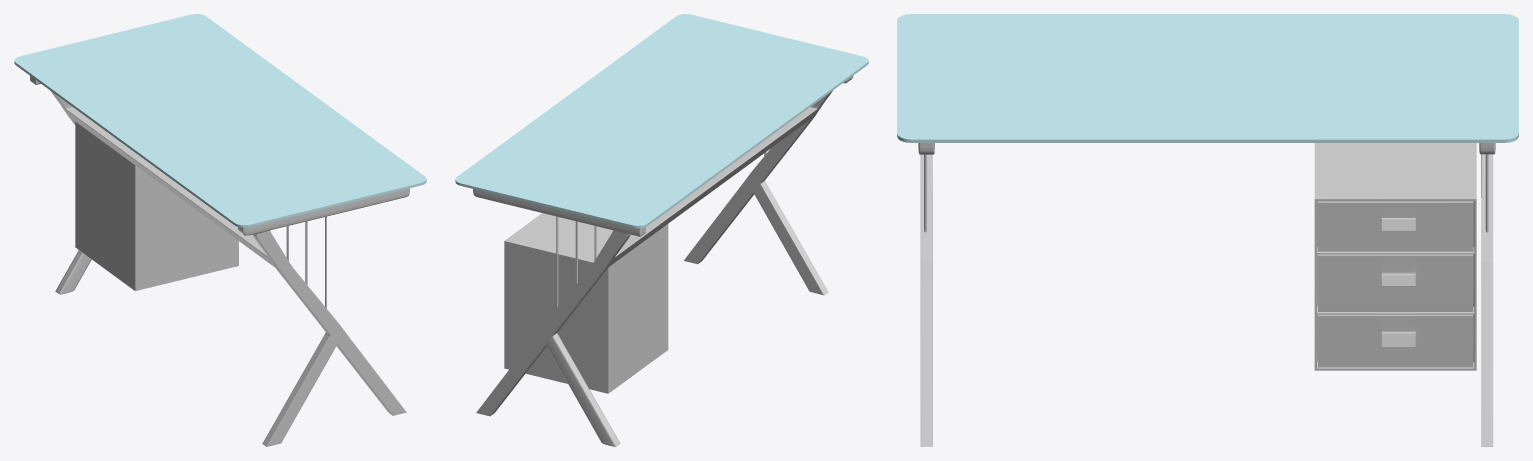
Rendered from Desk.fbx.
3 views of the same model, side by side, from view 1: azimuth 30°, elevation 25°; view 2: azimuth 150°, elevation 25°; view 3: azimuth 270°, elevation 25° (orthographic). The views are drawn at different scales.
Parts seen in each view (by area): view 1: DeskTop, Desk_Cupboard, Desk; view 2: DeskTop, Desk_Cupboard, Desk; view 3: DeskTop, Desk_Cupboard, Desk.
Boxes of the visible parts, <box> form: DeskTop: <box>14,14,426,227</box>; Desk_Cupboard: <box>75,122,238,290</box>; Desk: <box>30,76,409,446</box>; DeskTop: <box>455,14,868,228</box>; Desk_Cupboard: <box>504,213,668,393</box>; Desk: <box>473,76,853,446</box>; DeskTop: <box>897,14,1518,142</box>; Desk_Cupboard: <box>1314,143,1476,370</box>; Desk: <box>918,143,1495,446</box>.
Bounding box in the file's own units: 30 × 35.39 × 62.78.
